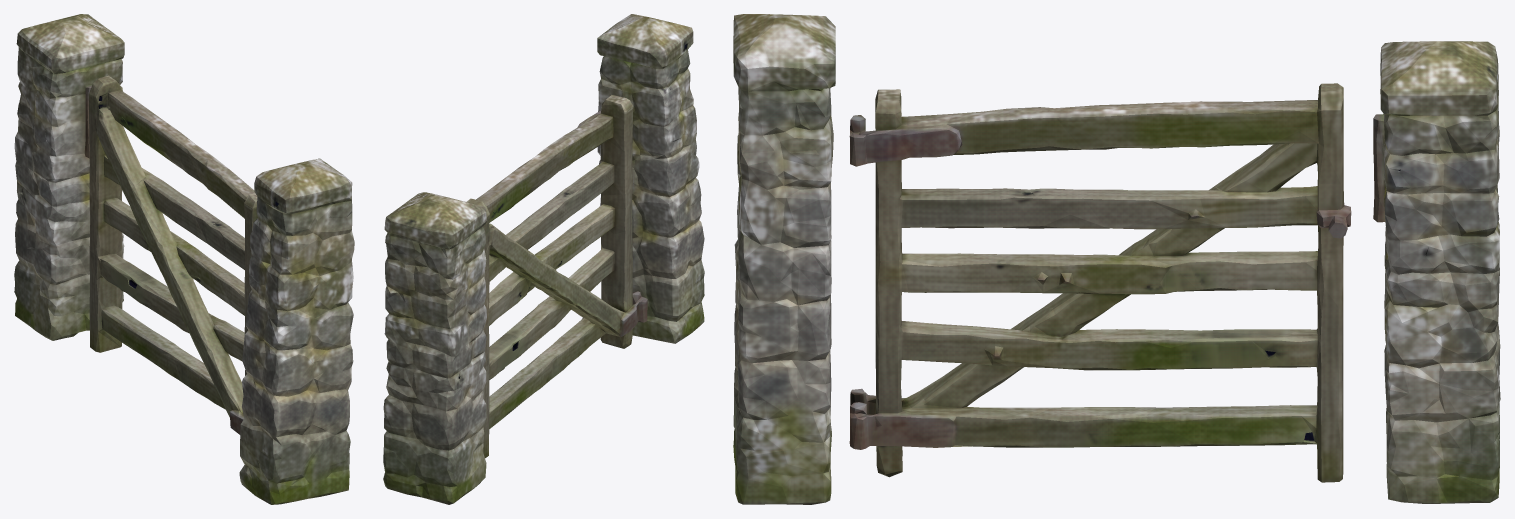
The model's file is gate.obj.
3 views of the same model, side by side, from view 1: azimuth 30°, elevation 25°; view 2: azimuth 150°, elevation 25°; view 3: azimuth 270°, elevation 25° (orthographic). The views are drawn at different scales.
Parts seen in each view (by area): view 1: gate; view 2: gate; view 3: gate.
Boxes of the visible parts, bbox=[...] form: gate: bbox=[14, 14, 354, 504]; gate: bbox=[383, 14, 704, 504]; gate: bbox=[733, 14, 1500, 504].
Size of the model in its own units: 0.6666 by 2.35 by 3.5.
1 material, 1 textured.
